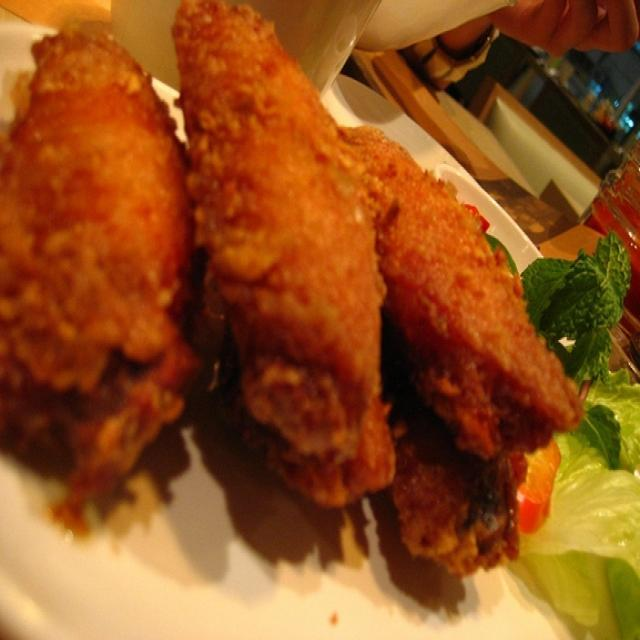Deep fried chicken wing: (8, 15, 580, 516)
